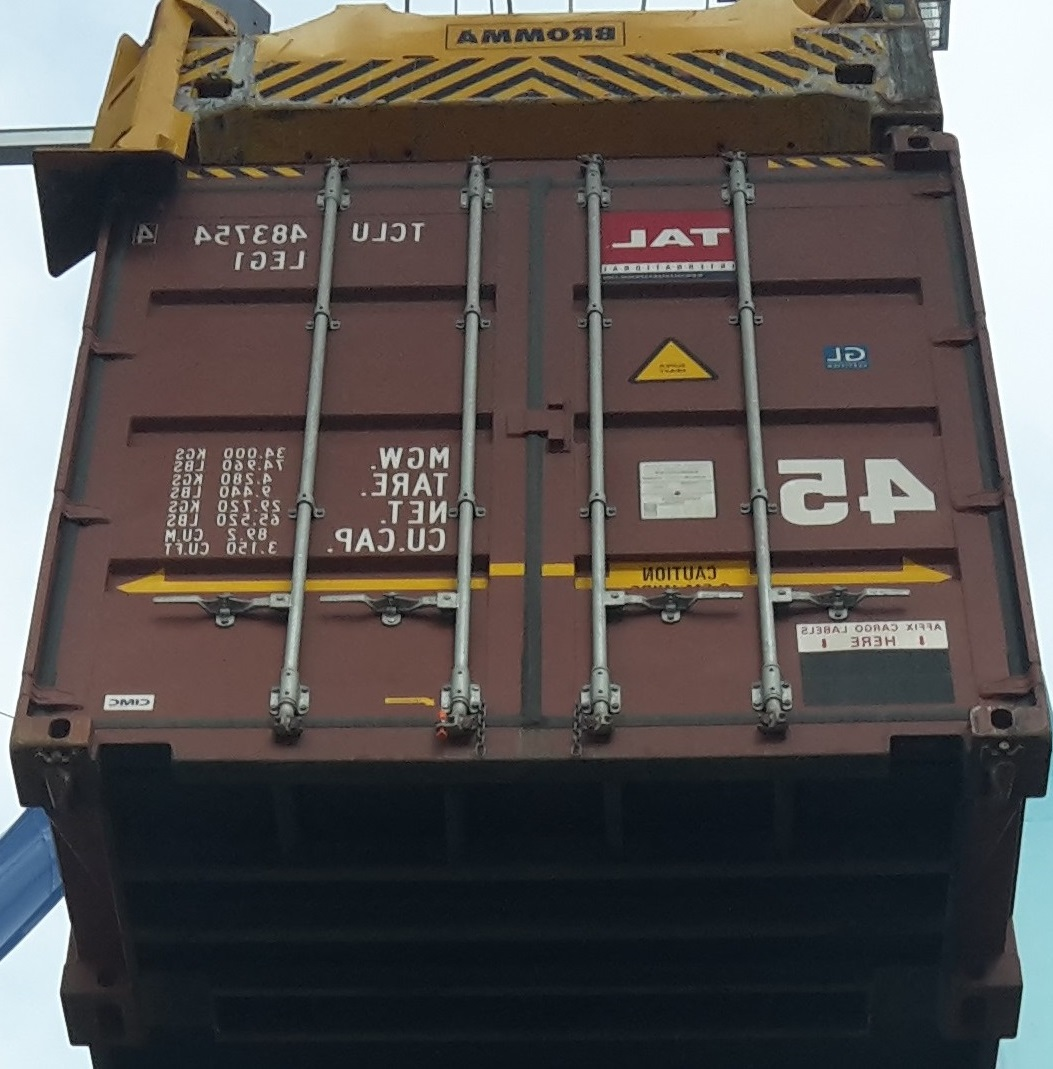container_door: (12, 130, 1031, 759)
